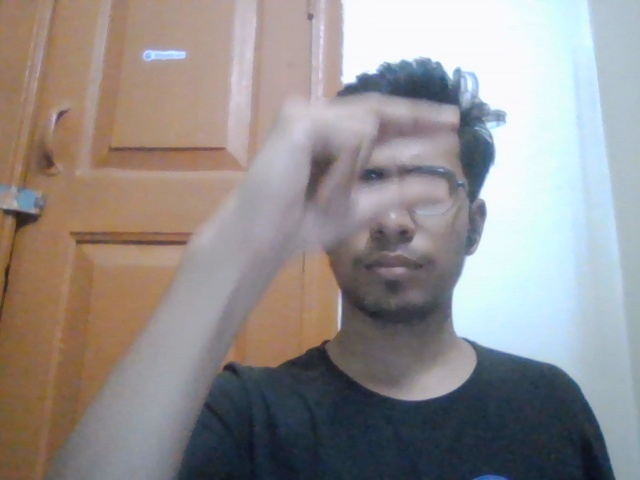No: (233, 97, 465, 249)
